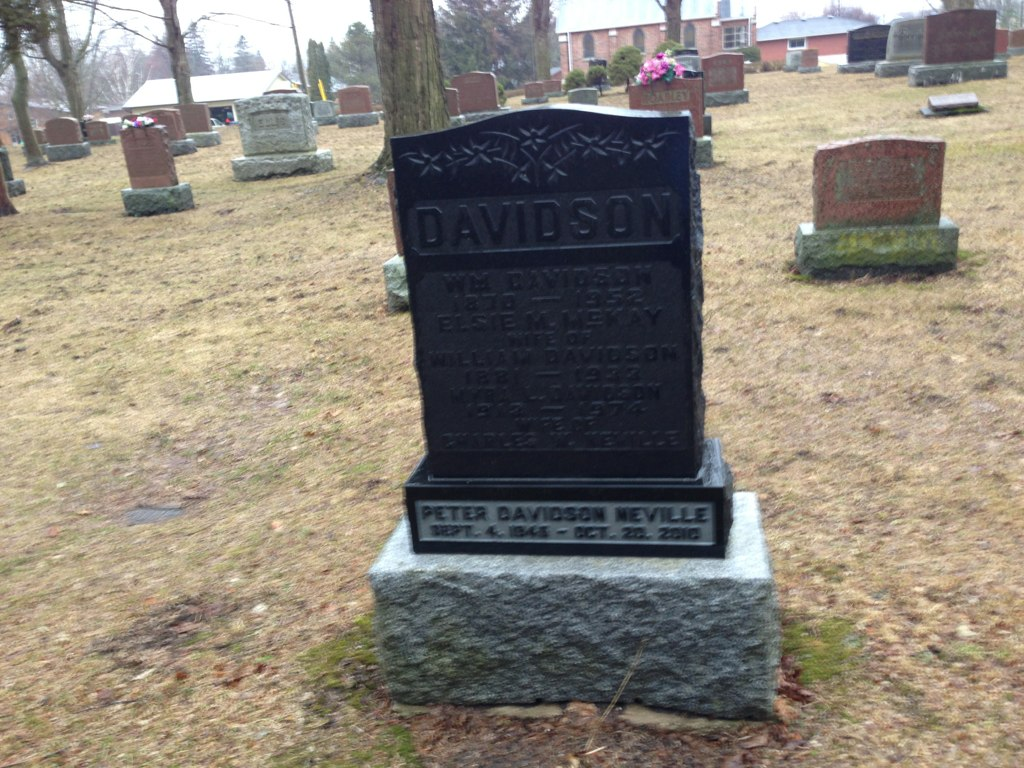upright: (370, 108, 781, 722)
